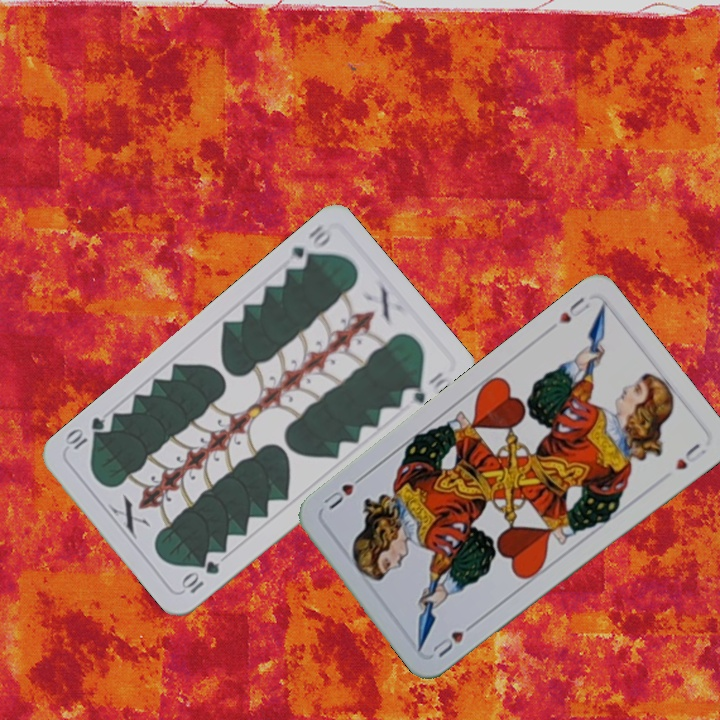G10: (281, 220, 334, 273), (177, 556, 222, 596)
HU: (428, 617, 480, 660), (555, 293, 592, 327)
